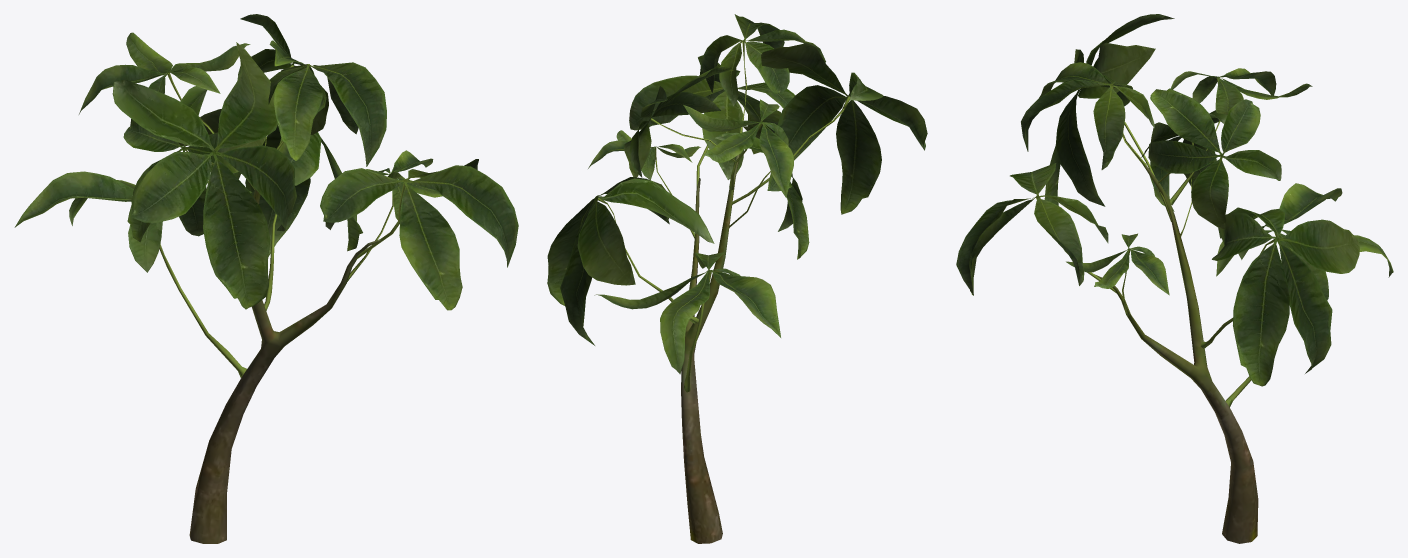
File: pachira_aquatica_01.glb
3 renders of one model, left to right at view 1: azimuth 30°, elevation 25°; view 2: azimuth 150°, elevation 25°; view 3: azimuth 270°, elevation 25°, orthographic. The views are drawn at different scales.
Parts seen in each view (by area): view 1: pachira_aquatica_01_leaves_b, pachira_aquatica_01_bark_b; view 2: pachira_aquatica_01_leaves_b, pachira_aquatica_01_bark_b; view 3: pachira_aquatica_01_leaves_b, pachira_aquatica_01_bark_b.
Boxes of the visible parts, <box> form: pachira_aquatica_01_leaves_b: <box>14,14,518,377</box>; pachira_aquatica_01_bark_b: <box>189,189,380,543</box>; pachira_aquatica_01_leaves_b: <box>547,14,927,392</box>; pachira_aquatica_01_bark_b: <box>681,154,739,543</box>; pachira_aquatica_01_leaves_b: <box>956,14,1393,407</box>; pachira_aquatica_01_bark_b: <box>1094,164,1258,543</box>.
Bounding box in the file's own units: 0.5032 × 0.7348 × 0.6074.
2 materials, 2 textured.
